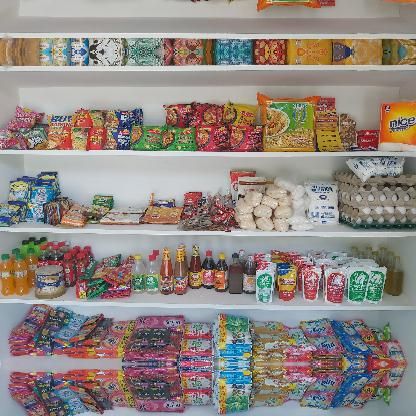Lady-s-Choice: (33, 262, 67, 300)
